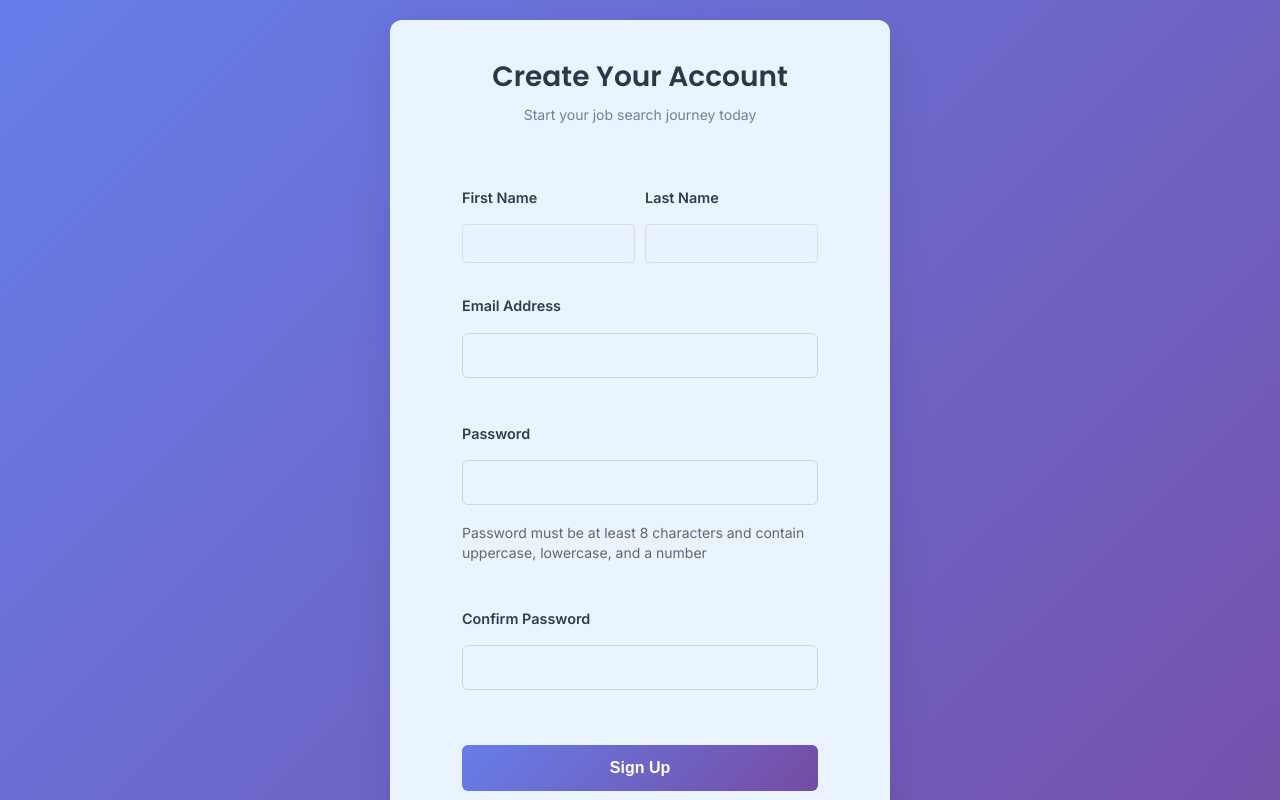
Test: Register › shows validation errors when fields are empty
The image size is (1280, 800).
Click the button "Sign Up" at (640, 768), box [462,745,818,791]
(page scrolled)
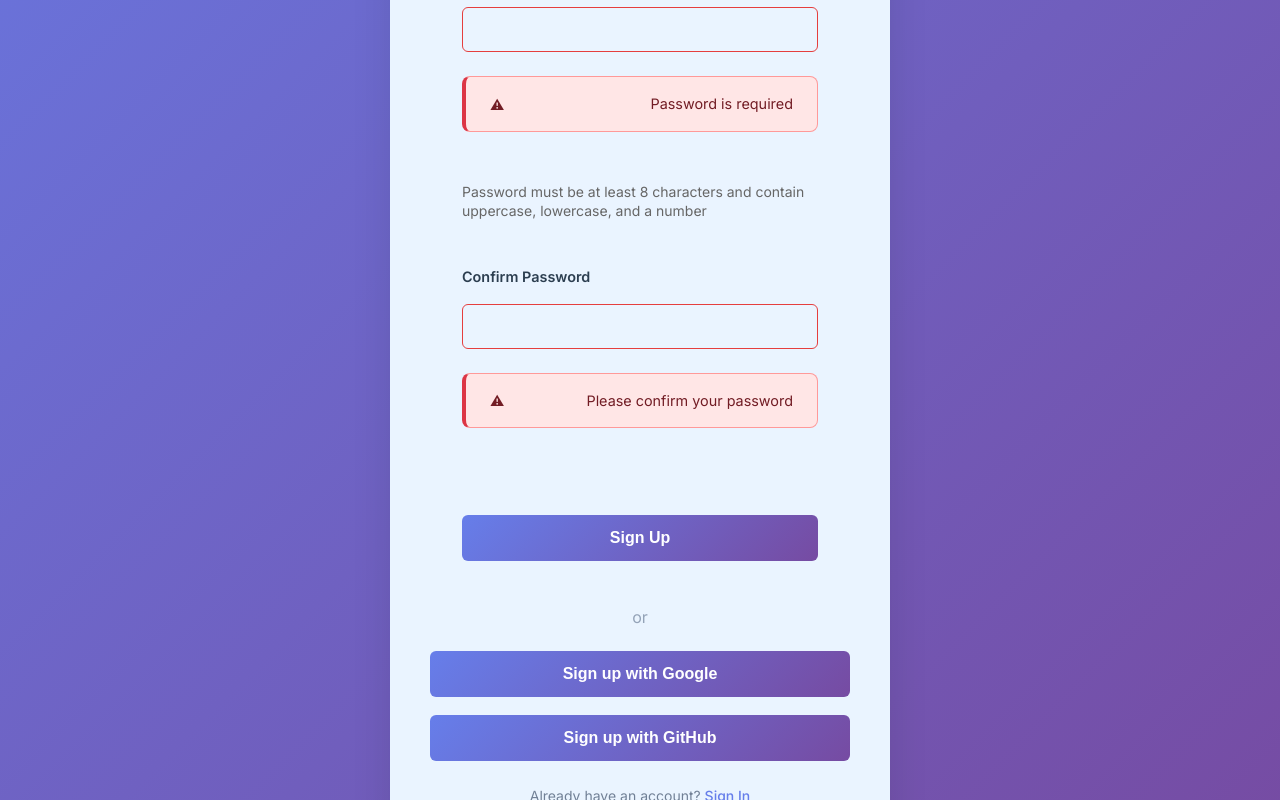
Check: the text "Password is required" is shown, box [462,76,818,132]
Check: the text "Please confirm your password" is shown, box [462,373,818,428]
